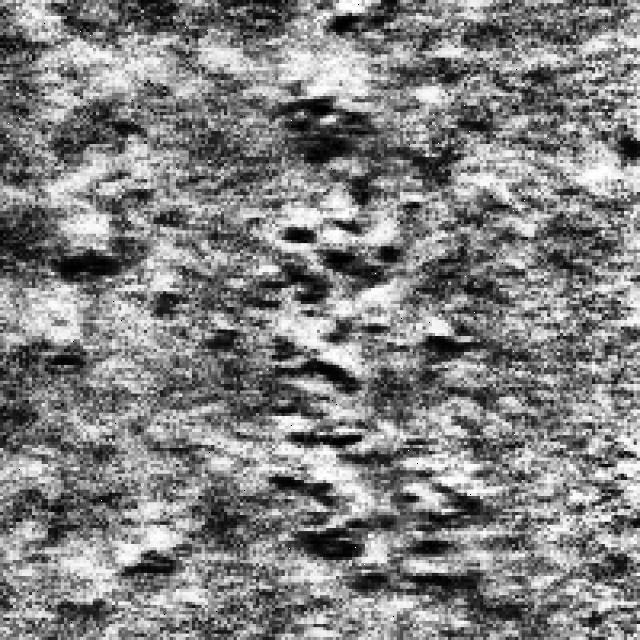Crazing: (41, 204, 486, 390), (115, 397, 477, 596), (266, 74, 378, 195)
